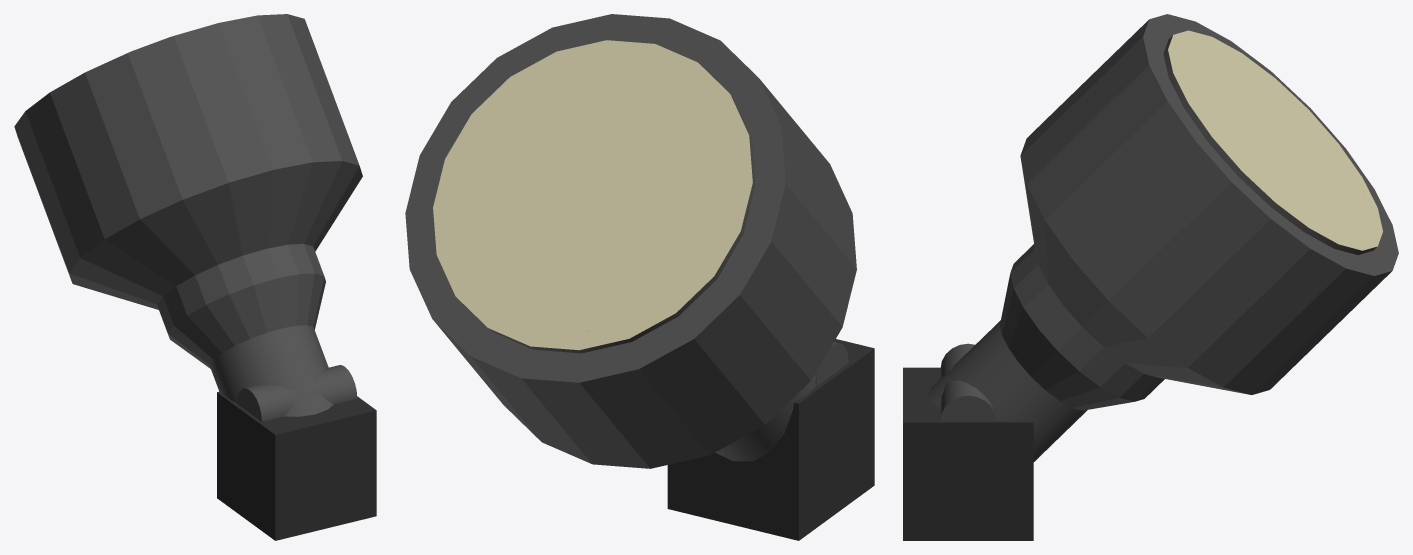
Rendered from NIE_light.fbx.
The picture shows the model from 3 angles, left to right: view 1: azimuth 30°, elevation 25°; view 2: azimuth 150°, elevation 25°; view 3: azimuth 270°, elevation 25°; orthographic projection. The views are drawn at different scales.
Visible parts, largest first — view 1: pCylinder6; view 2: pCylinder6; view 3: pCylinder6.
Boxes of the visible parts, bbox=[...] form: pCylinder6: bbox=[14, 14, 376, 540]; pCylinder6: bbox=[405, 14, 874, 540]; pCylinder6: bbox=[903, 14, 1398, 540].
Size of the model in its own units: 121 by 182 by 172.
